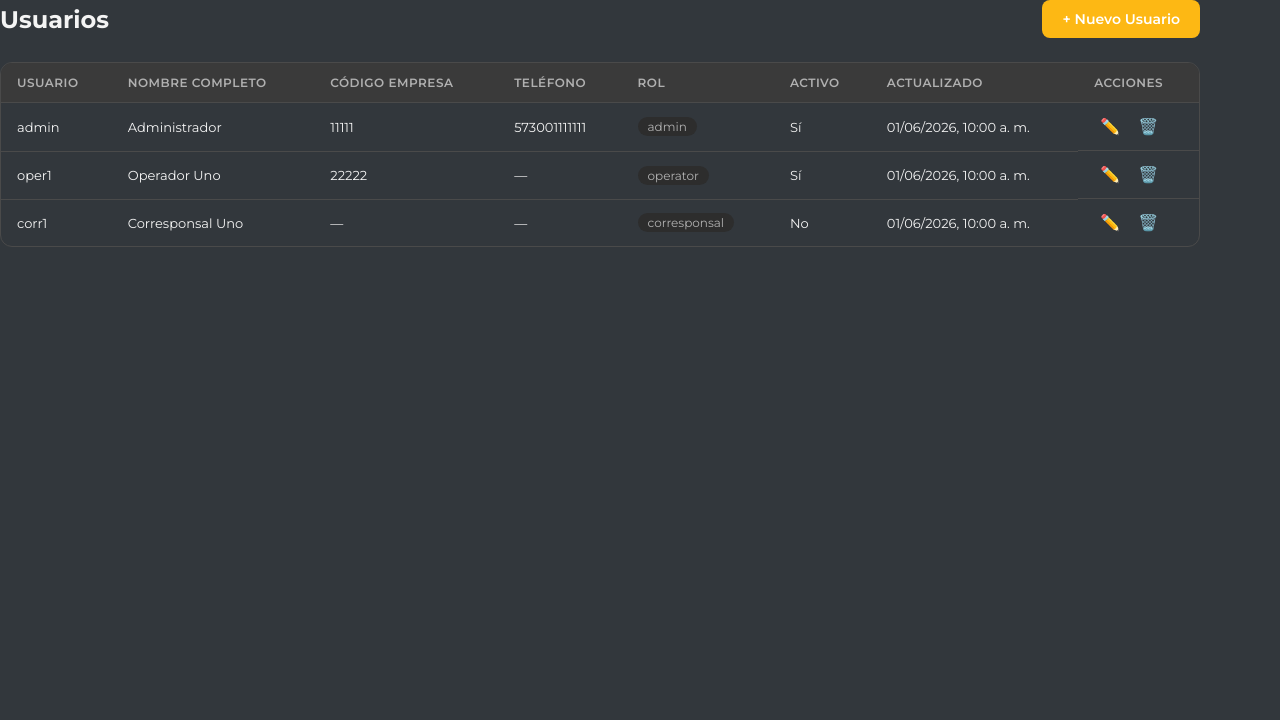
AdminUsers — crear usuario (R3) › HTTP 201 cierra modal y muestra exito
Click the button "+ Nuevo Usuario". click: (1121, 19)
box: x1=1042 y1=0 x2=1200 y2=38
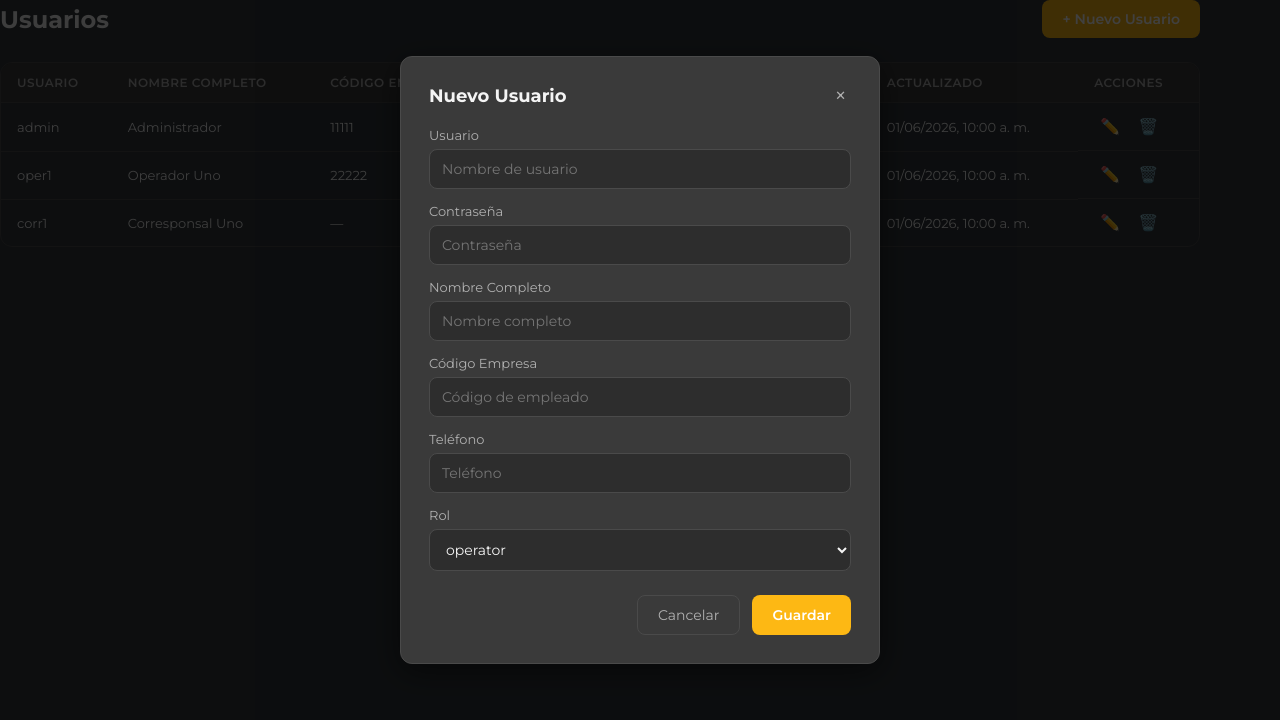
Type "nuevo" into the field with placeholder "Nombre de usuario". click: (640, 169)
box: x1=429 y1=149 x2=851 y2=189
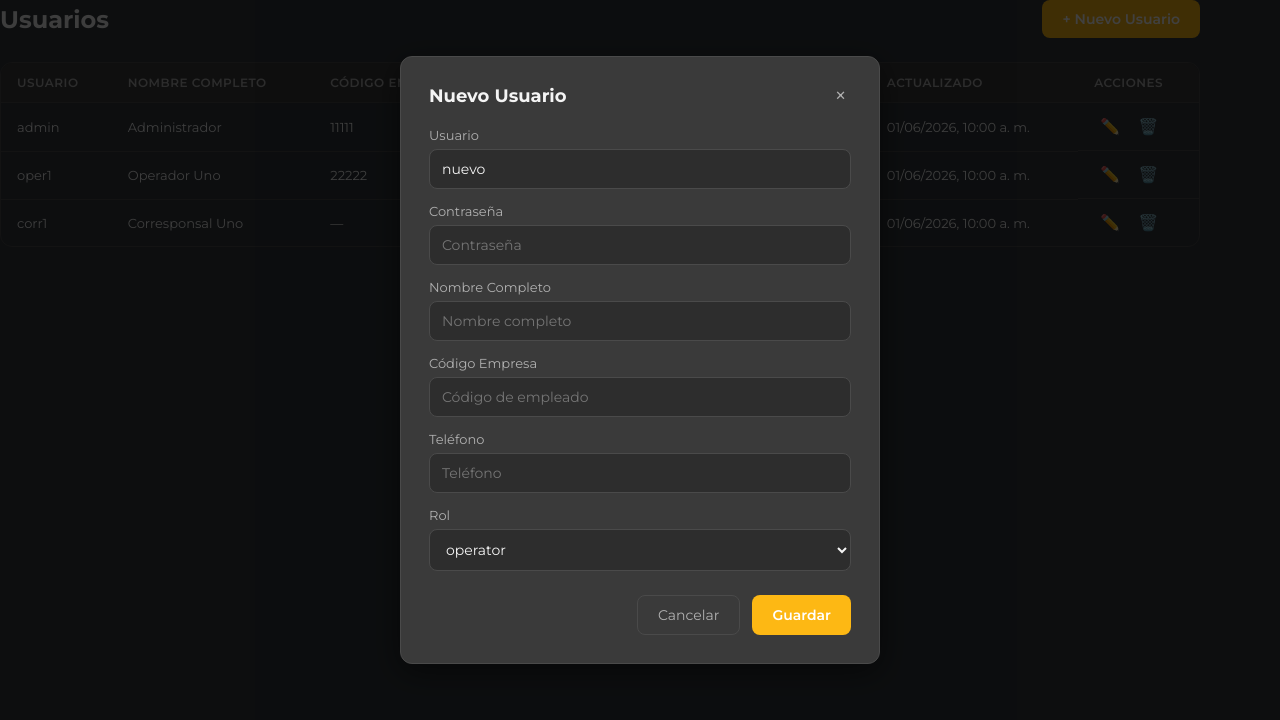
Type "pass123" into the password field with placeholder "Contraseña". click: (640, 245)
box: x1=429 y1=225 x2=851 y2=265
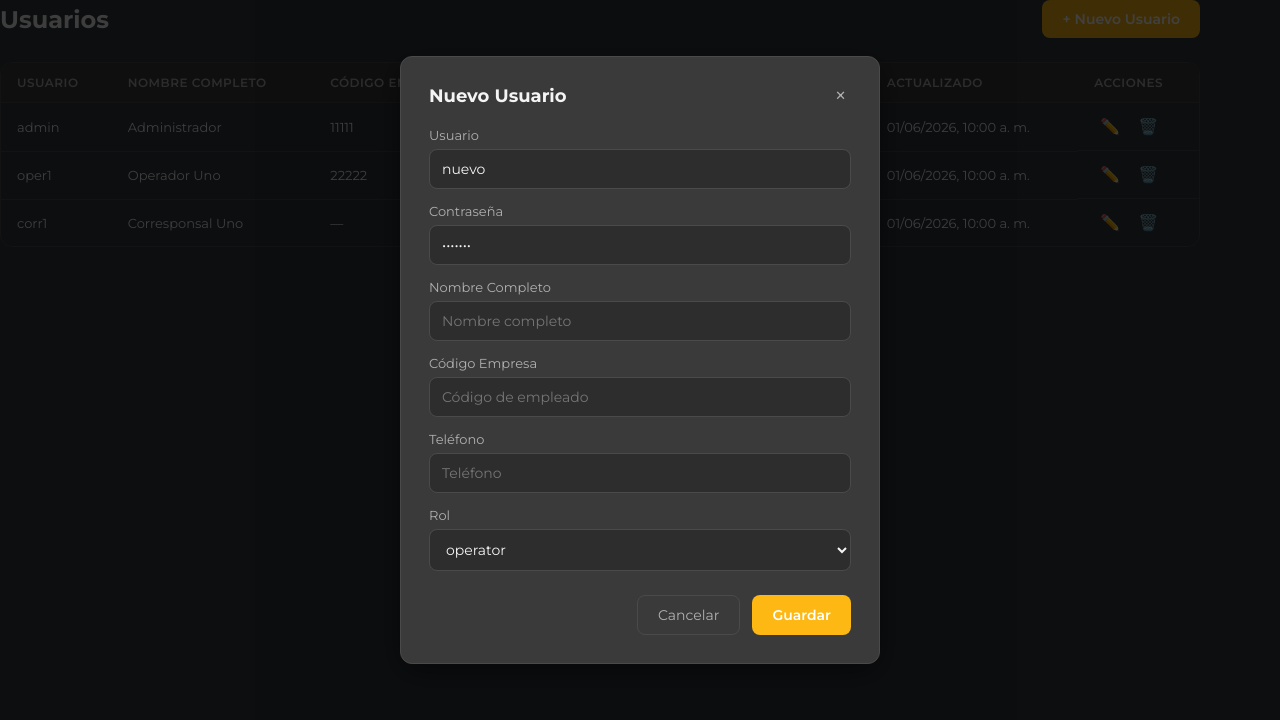
Type "Usuario Nuevo" into the field with placeholder "Nombre Completo". click: (640, 321)
box: x1=429 y1=301 x2=851 y2=341
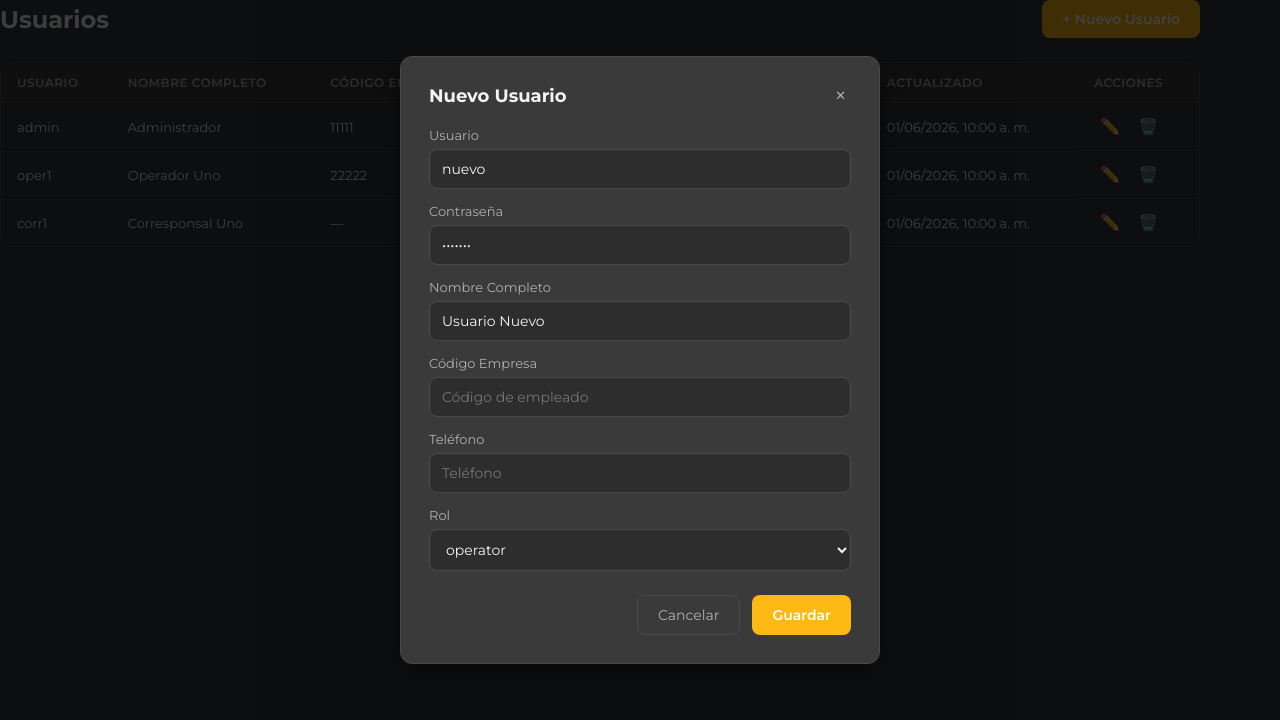
Click the button "Guardar". click: (802, 615)
box: x1=752 y1=595 x2=851 y2=635
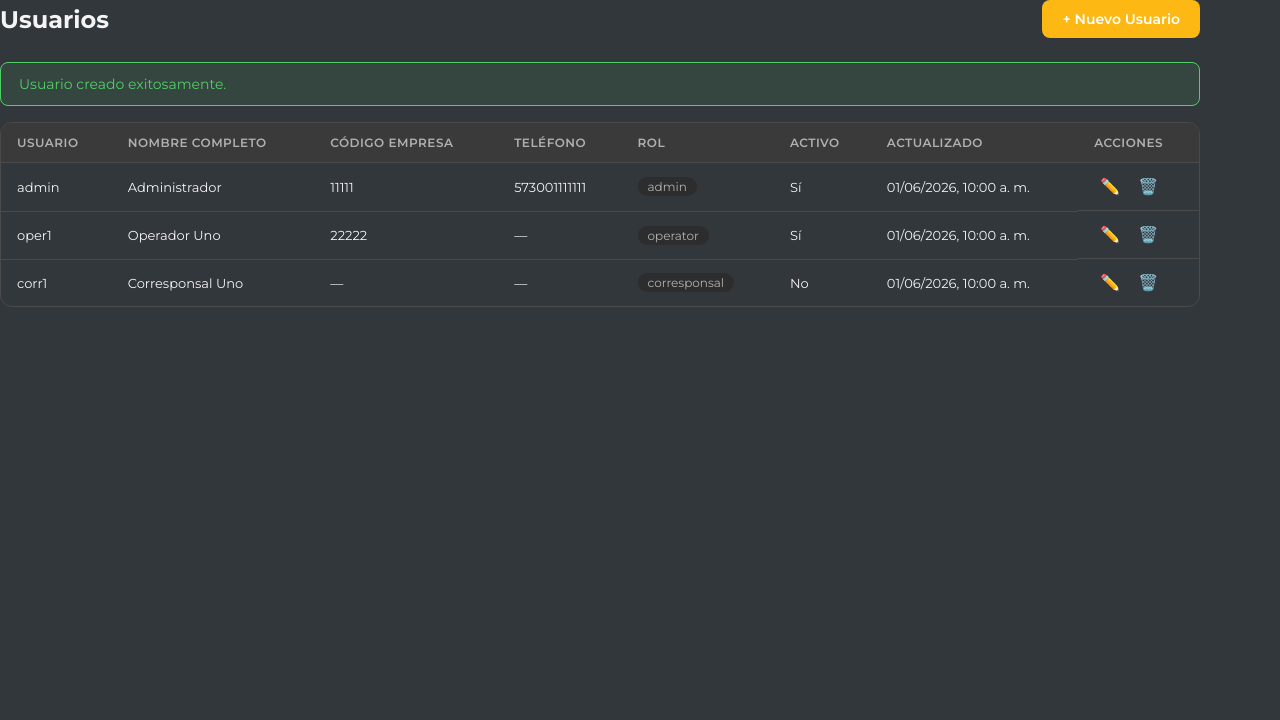
Expected: the text "Usuario creado exitosamente." is shown, x1=0 y1=62 x2=1200 y2=106
